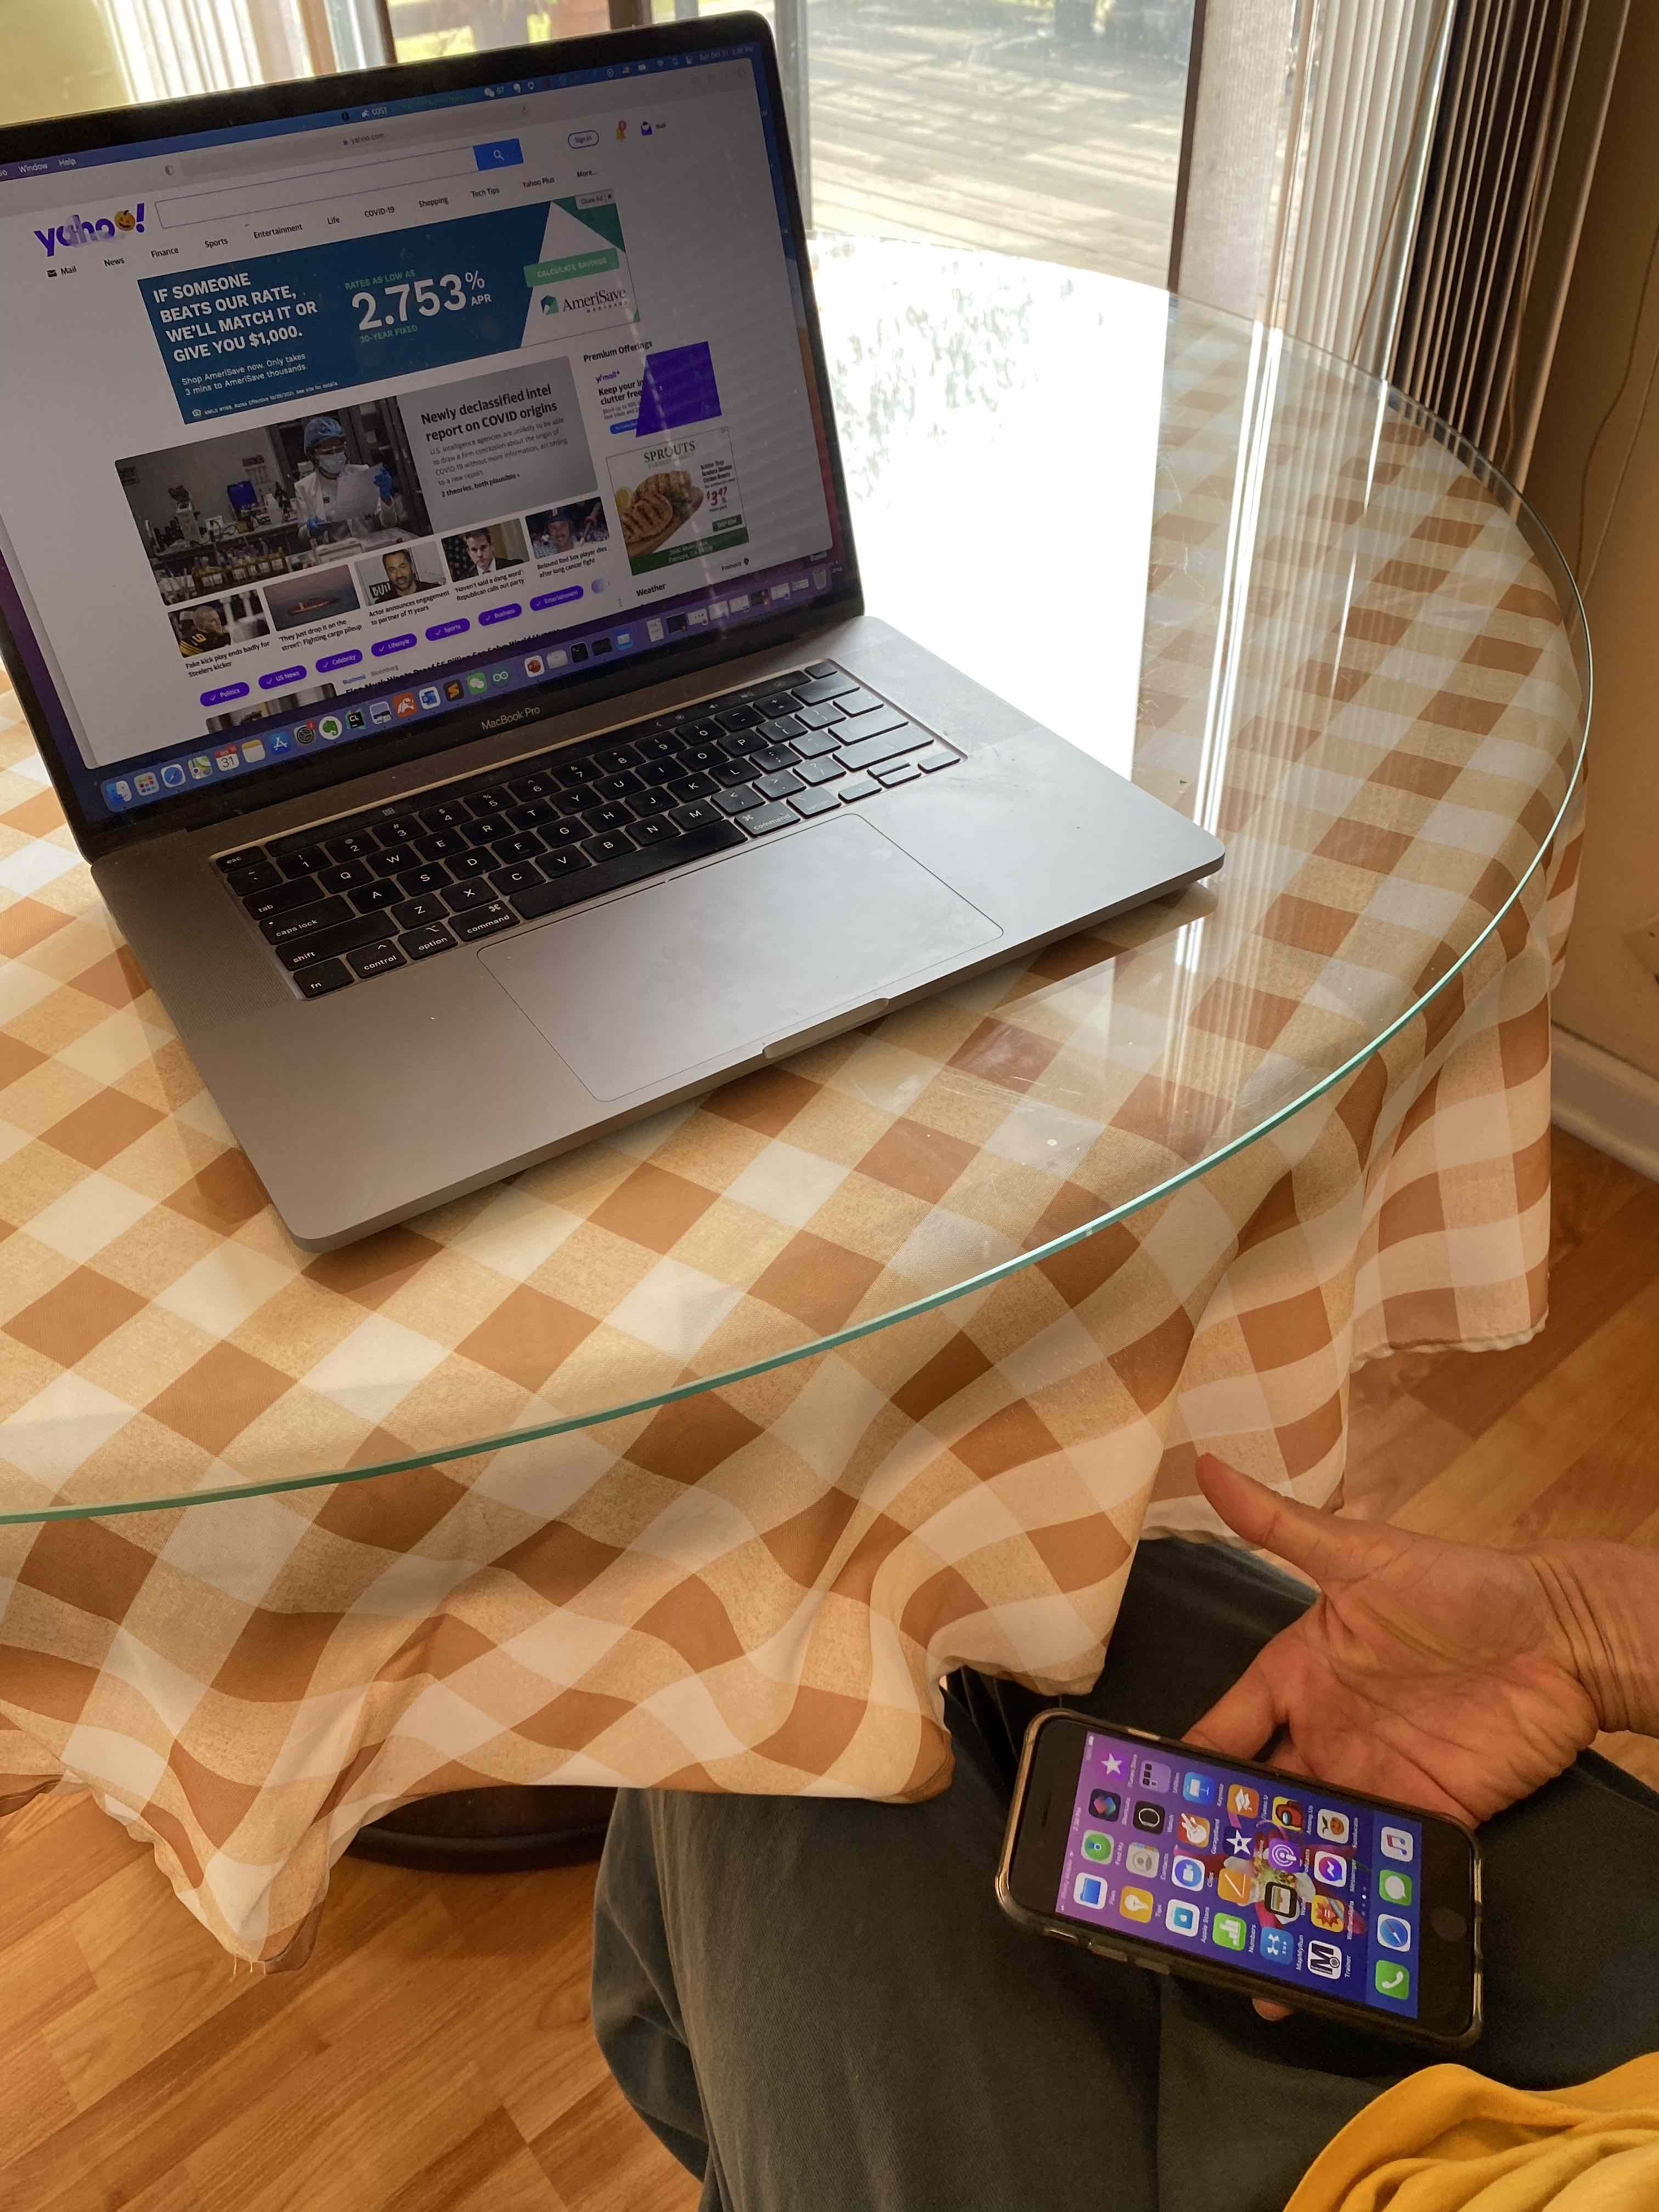Cell Phone: (992, 1719, 1493, 2059)
